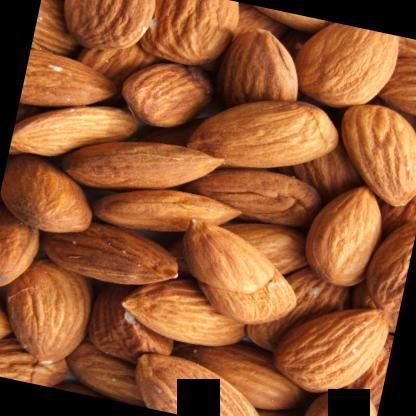almond: (179, 81, 340, 186), (258, 290, 398, 408), (61, 122, 230, 214), (164, 219, 302, 328), (33, 213, 183, 296), (288, 173, 390, 294), (114, 265, 251, 355), (287, 16, 403, 115), (94, 174, 240, 249), (0, 253, 94, 368), (206, 22, 306, 121), (327, 100, 415, 209), (134, 350, 274, 415), (0, 147, 101, 236), (110, 52, 210, 138), (131, 0, 240, 73), (18, 48, 118, 122), (50, 0, 155, 61), (0, 329, 74, 390), (0, 214, 44, 302), (290, 380, 380, 415)
